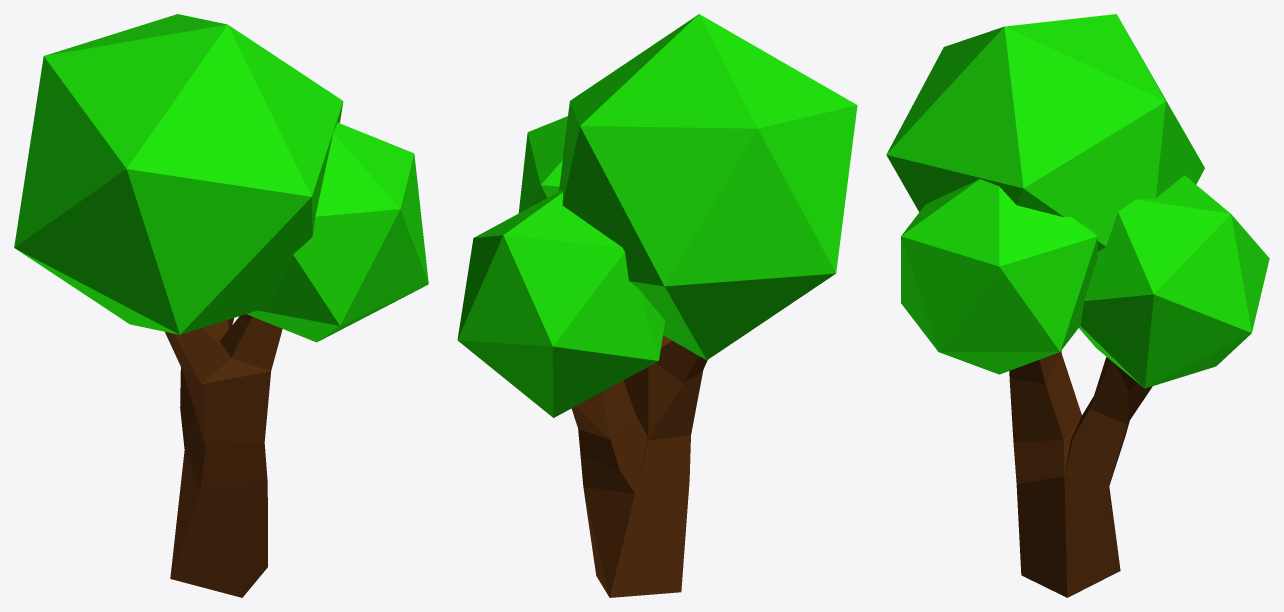
The model's file is Bush1.fbx.
3 views of the same model, side by side, from view 1: azimuth 30°, elevation 25°; view 2: azimuth 150°, elevation 25°; view 3: azimuth 270°, elevation 25° (orthographic). The views are drawn at different scales.
Parts seen in each view (by area): view 1: Icosphere, Stump; view 2: Icosphere, Stump; view 3: Icosphere, Stump.
Boxes of the visible parts, x1,y1,x2,y2 form: Icosphere: (14,14,428,342); Stump: (165,314,282,597); Icosphere: (457,14,857,417); Stump: (571,335,707,597); Icosphere: (886,14,1269,388); Stump: (1009,350,1152,597).
Size of the model in its own units: 84 by 130 by 83.7.
